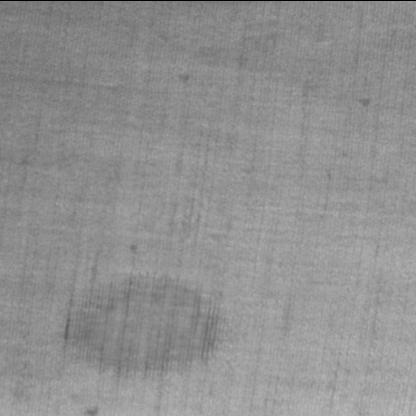oil spot: (57, 270, 231, 376)
